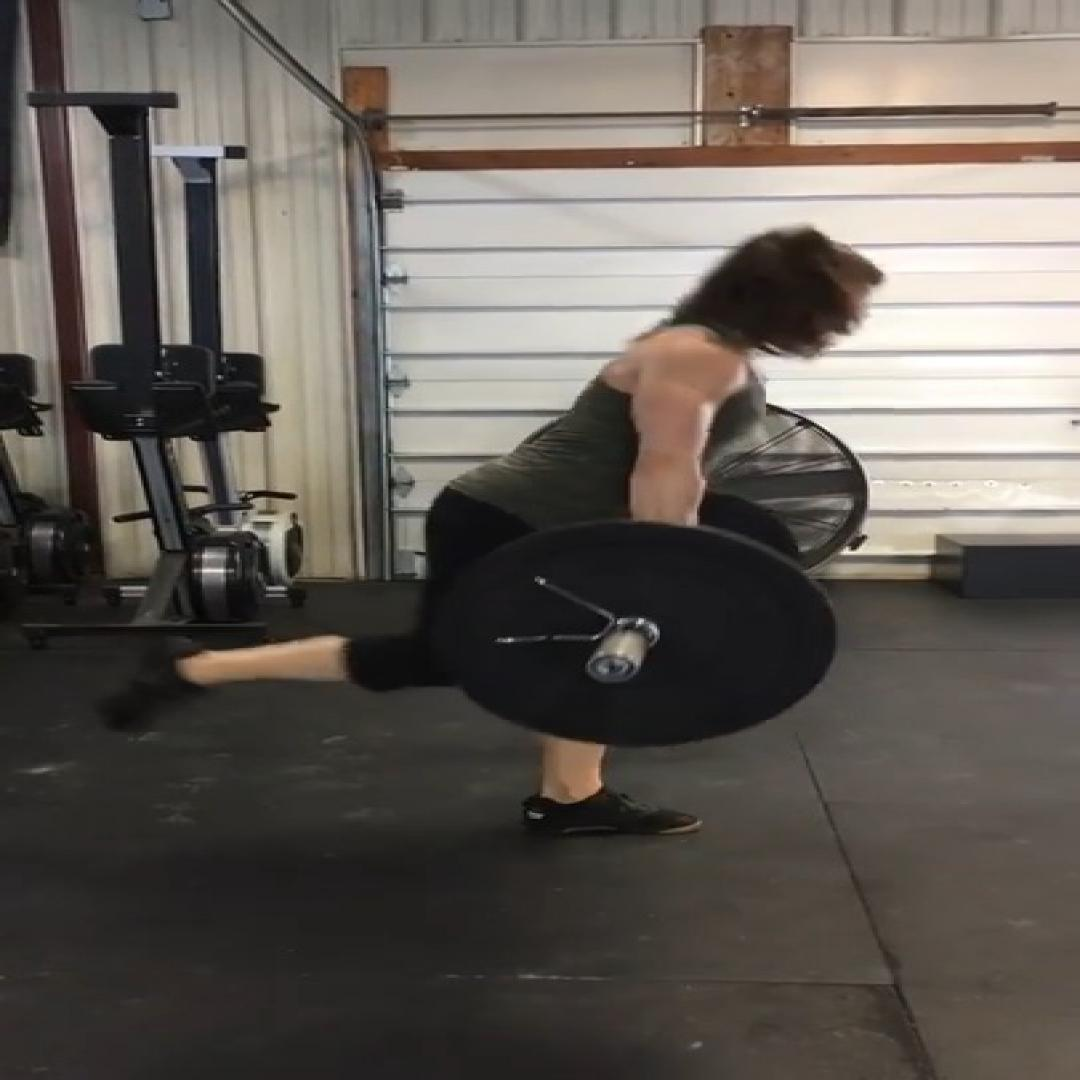Bar: (585, 653, 641, 682)
Barbell: (431, 521, 838, 747)
